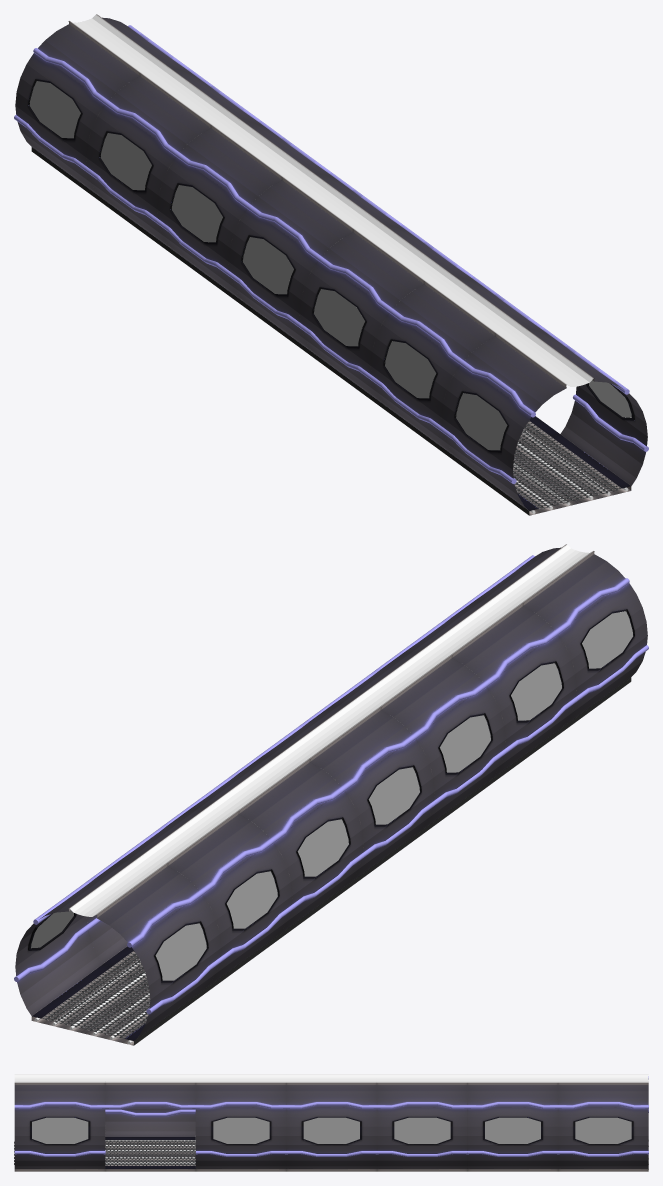
Rendered from Corridoio_completo.fbx.
The picture shows the model from 3 angles, top to bottom: view 1: azimuth 30°, elevation 25°; view 2: azimuth 150°, elevation 25°; view 3: azimuth 270°, elevation 25°; orthographic projection. The views are drawn at different scales.
Visible parts, largest first — view 1: Corridoio, Vetri, Pavimento; view 2: Corridoio, Vetri, Pavimento; view 3: Corridoio, Vetri, Pavimento.
Boxes of the visible parts, x1,y1,x2,y2 form: Corridoio: (14, 14, 648, 515); Vetri: (29, 81, 631, 450); Pavimento: (349, 346, 621, 509); Corridoio: (14, 544, 648, 1045); Vetri: (31, 611, 632, 980); Pavimento: (41, 951, 150, 1038); Corridoio: (14, 1074, 648, 1171); Vetri: (32, 1117, 631, 1143); Pavimento: (14, 1140, 195, 1165).
Bounding box in the file's own units: 7.2 × 6.09 × 45.27.
Materials: 7 (6 with a texture image).
